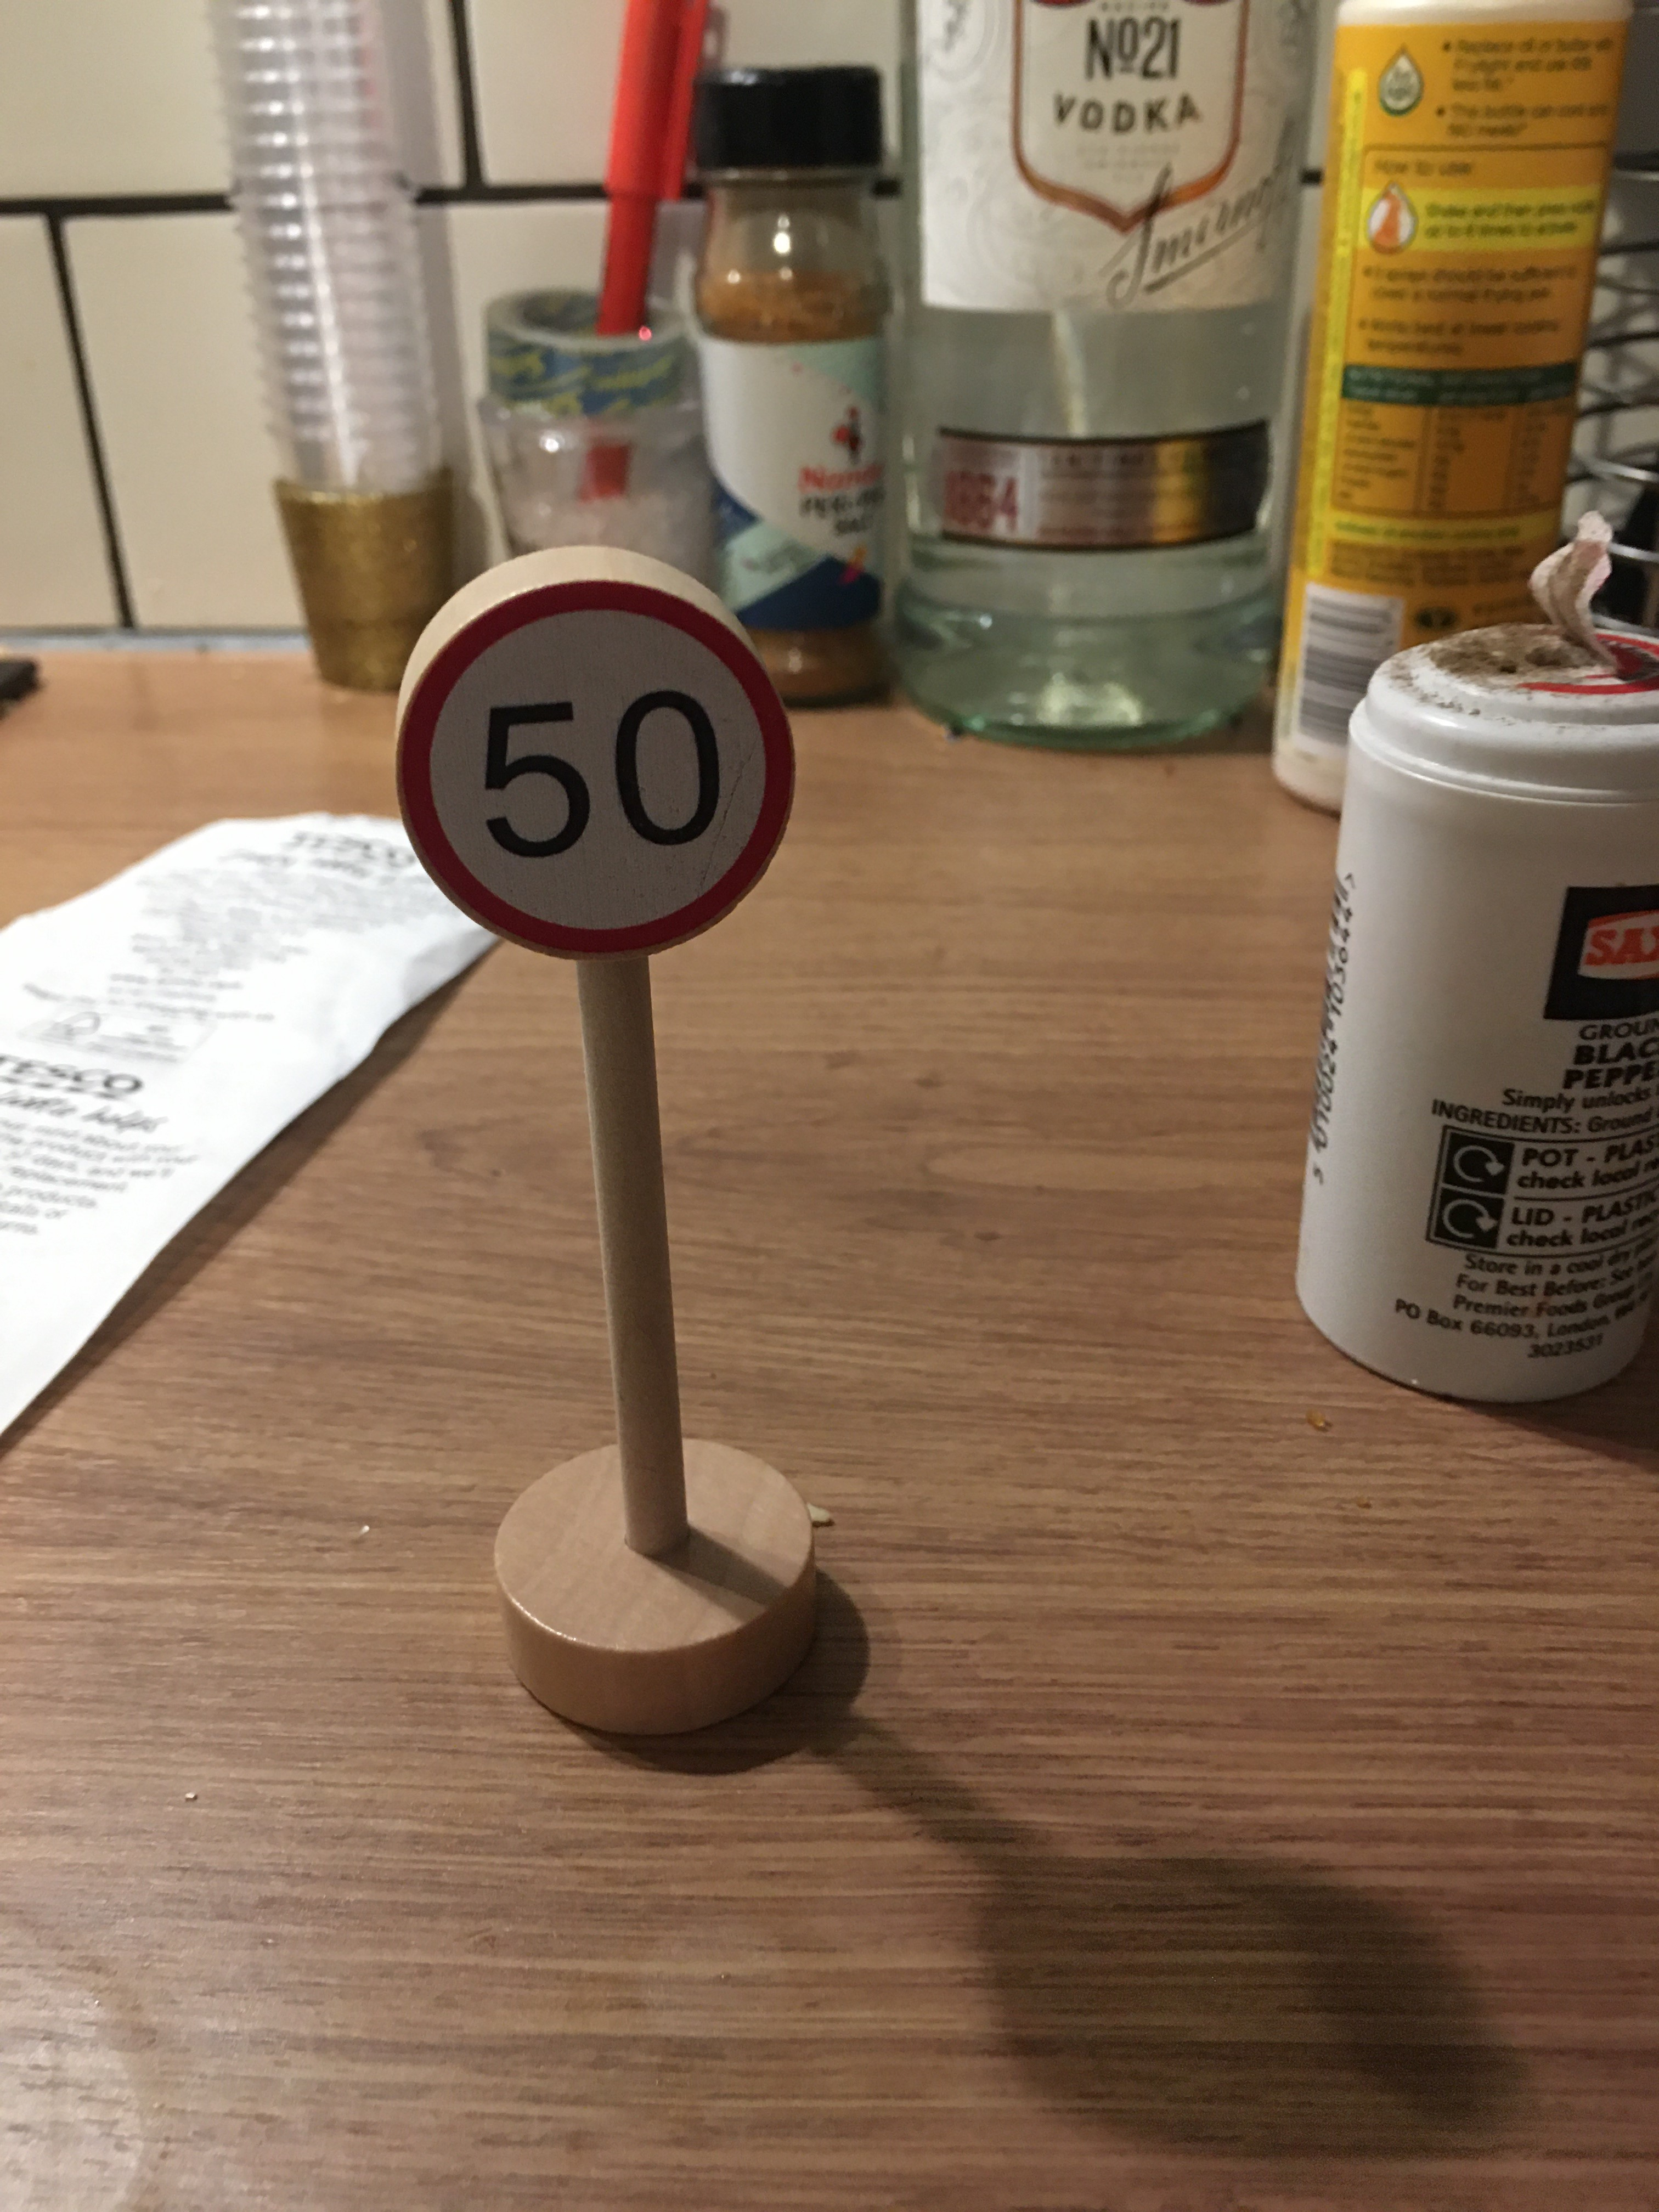Traffic_Sign_50: (399, 592, 788, 961)
